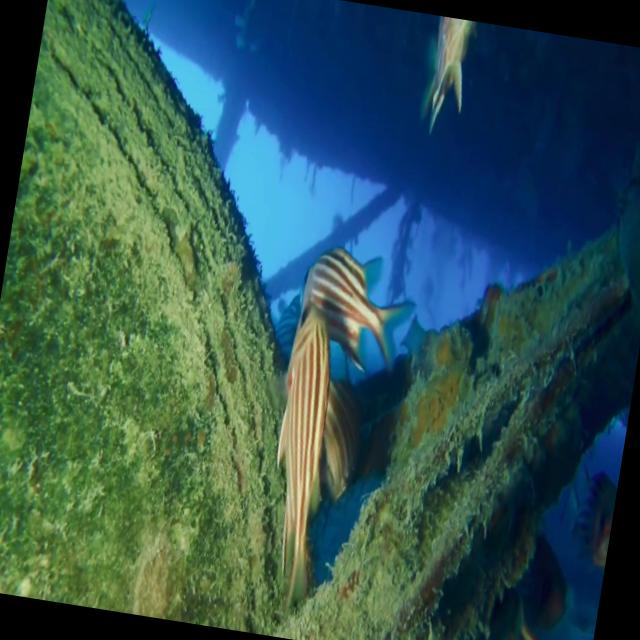Asker Baligi: (247, 237, 425, 625)
